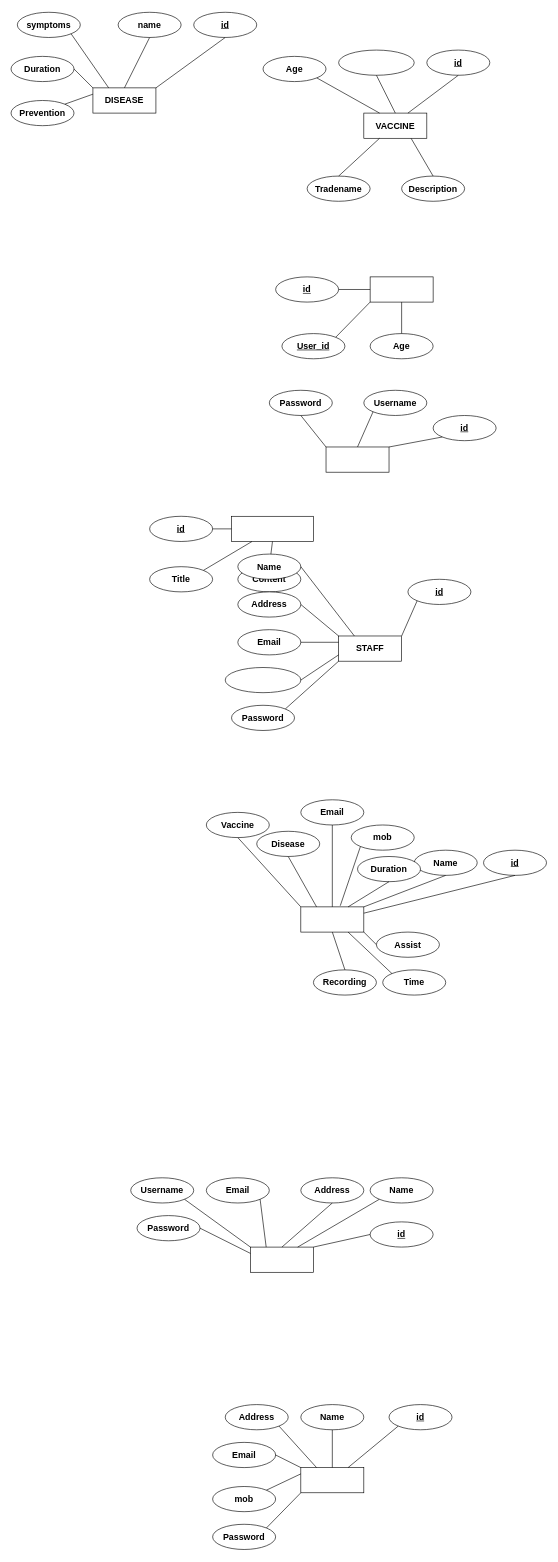
Some shapes in this 558 by 1562 pixel diagram are drawn without their labels. The centre of each missing label's shape, as x and y in pixels:
ADMIN: (357,459)
ANNOUNCEMENT: (272,528)
ASSISTANCE: (332,919)
FEEDBACK: (401,289)
Mobile_number: (263,680)
REGISTER: (332,1480)
USER: (281,1259)
Vaccine_name: (376,62)
